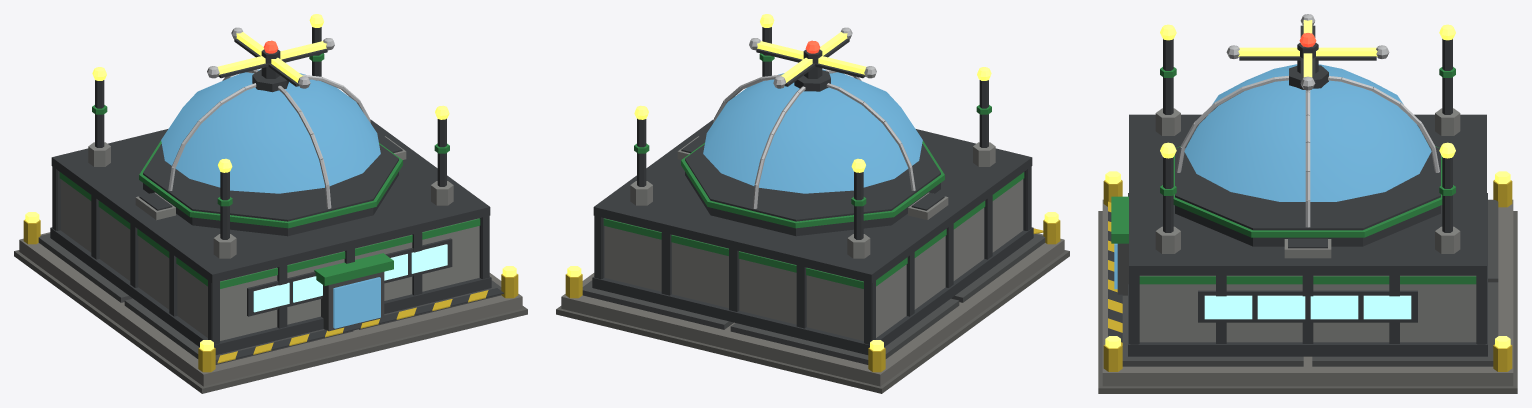
File: tech_lod1.glb
3 renders of one model, left to right at view 1: azimuth 30°, elevation 25°; view 2: azimuth 150°, elevation 25°; view 3: azimuth 270°, elevation 25°, orthographic. The views are drawn at different scales.
Visible parts, largest first — view 1: Tech_LOD1_Walls, Tech_LOD1_Frame, Tech_LOD1_Foundation, Tech_LOD1_Details, Tech_LOD1_spin; view 2: Tech_LOD1_Frame, Tech_LOD1_Walls, Tech_LOD1_Foundation, Tech_LOD1_Details, Tech_LOD1_spin; view 3: Tech_LOD1_Walls, Tech_LOD1_Frame, Tech_LOD1_Foundation, Tech_LOD1_Details, Tech_LOD1_spin.
Part boxes in pixels (bbox=[...]): Tech_LOD1_Walls: bbox=[59, 69, 480, 340]; Tech_LOD1_Frame: bbox=[50, 69, 491, 354]; Tech_LOD1_Foundation: bbox=[14, 212, 527, 393]; Tech_LOD1_Details: bbox=[88, 14, 453, 328]; Tech_LOD1_spin: bbox=[207, 27, 334, 88]; Tech_LOD1_Frame: bbox=[592, 69, 1033, 354]; Tech_LOD1_Walls: bbox=[603, 69, 1024, 340]; Tech_LOD1_Foundation: bbox=[556, 212, 1069, 393]; Tech_LOD1_Details: bbox=[630, 14, 995, 258]; Tech_LOD1_spin: bbox=[749, 27, 876, 88]; Tech_LOD1_Walls: bbox=[1111, 64, 1476, 342]; Tech_LOD1_Frame: bbox=[1128, 65, 1487, 356]; Tech_LOD1_Foundation: bbox=[1098, 171, 1517, 393]; Tech_LOD1_Details: bbox=[1114, 24, 1460, 289]; Tech_LOD1_spin: bbox=[1226, 14, 1389, 90].
Size of the model in its own units: 1.98 by 1.42 by 1.98.
